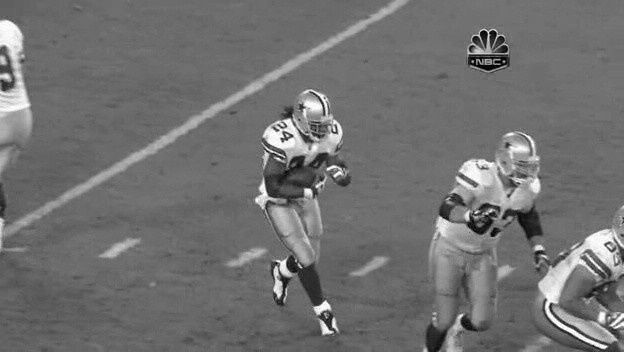person: (296, 90, 333, 137), (295, 90, 332, 137), (297, 90, 334, 137), (296, 89, 333, 136), (296, 91, 333, 138)
target_negative: (226, 93, 502, 275), (357, 106, 392, 304), (375, 251, 601, 277), (363, 333, 568, 349), (507, 96, 513, 139)
